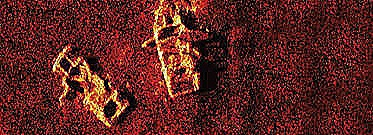ship: (141, 1, 209, 99), (51, 44, 130, 128)
